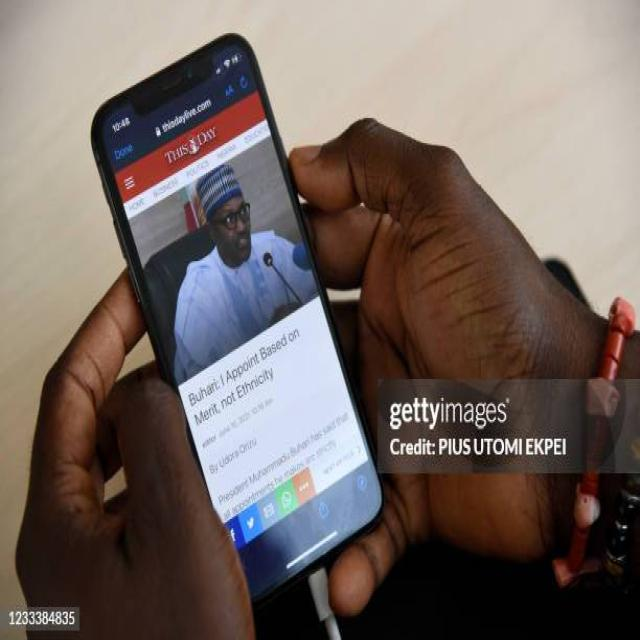mobile_phone: (92, 15, 404, 625)
